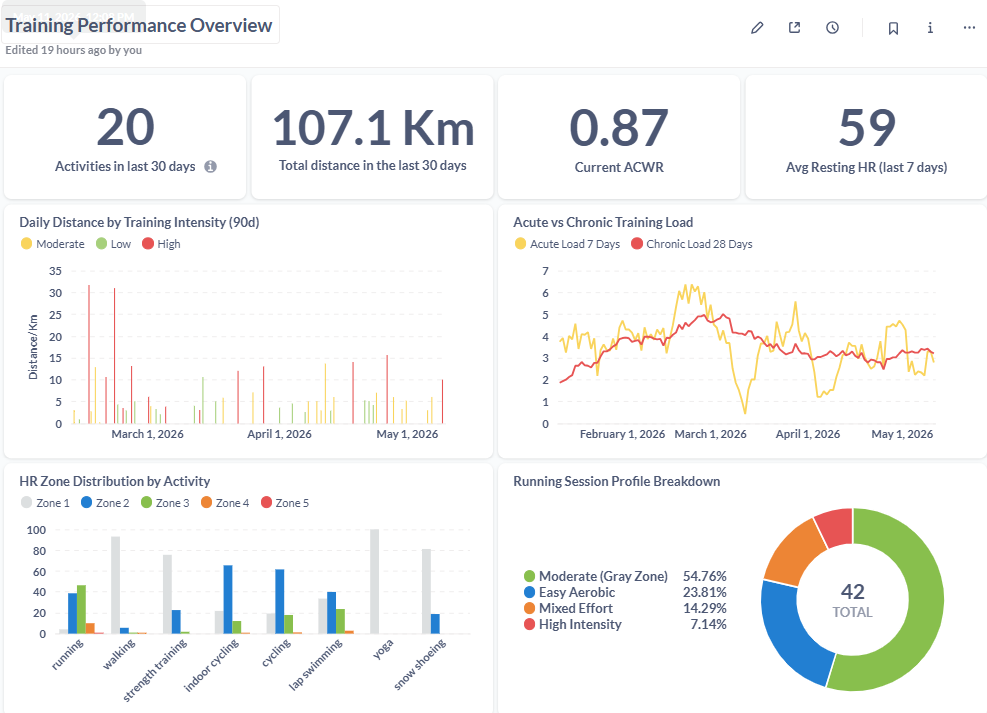

Layout of this report page (visuals, bound fields, positions):
{"tool":"powerbi","page":{"name":"Page 1","canvas":[1280,720],"ordinal":0},"visuals":[{"type":"cardVisual","fields":{"Data":["analytics fct_daily_training.Total Sessions","analytics fct_daily_training.Total Distance KM","analytics fct_daily_training.Average Resting HR"]},"box":[0,98,640.2,111.8],"z":0},{"type":"slicer","fields":{"Values":["analytics fct_daily_training.date_day"]},"box":[0,0,640.2,98],"z":1},{"type":"lineChart","title":"Training Load: Acute vs Chronic","fields":{"Y":["Sum(analytics fct_weekly_training_load.acute_load_7d)","Sum(analytics fct_weekly_training_load.chronic_load_28d)"],"Category":["analytics fct_weekly_training_load.date_day"]},"box":[0,209.8,1280.3,193],"z":2},{"type":"columnChart","title":"Avg HR Zone Distribution by Activity","fields":{"Category":["analytics fct_hr_zones.activity_type"],"Y":["Avg(analytics fct_hr_zones.z1_pct)","Avg(analytics fct_hr_zones.z2_pct)","Avg(analytics fct_hr_zones.z3_pct)","Avg(analytics fct_hr_zones.z4_pct)","Avg(analytics fct_hr_zones.z5_pct)"]},"box":[0,402.8,640.2,317],"z":3},{"type":"donutChart","title":"Running Session Profile","fields":{"Category":["analytics fct_hr_zones.session_profile"],"Y":["CountNonNull(analytics fct_hr_zones.activity_id)"]},"box":[640.2,402.8,640.2,317],"z":4}]}

Visuals, with their boxes on the page's 1280x720 design canvas (x1, y1, x2, y2). These are canvas units, not pixel positions in the 987x713 screenshot, which may show the page scaled, cropped or inside an application window:
cardVisual - analytics fct_daily_training.Total Sessions x analytics fct_daily_training.Total Distance KM: (0,98,640,210)
slicer - analytics fct_daily_training.date_day: (0,0,640,98)
"Training Load: Acute vs Chronic" lineChart: (0,210,1280,403)
"Avg HR Zone Distribution by Activity" columnChart: (0,403,640,720)
"Running Session Profile" donutChart: (640,403,1280,720)
